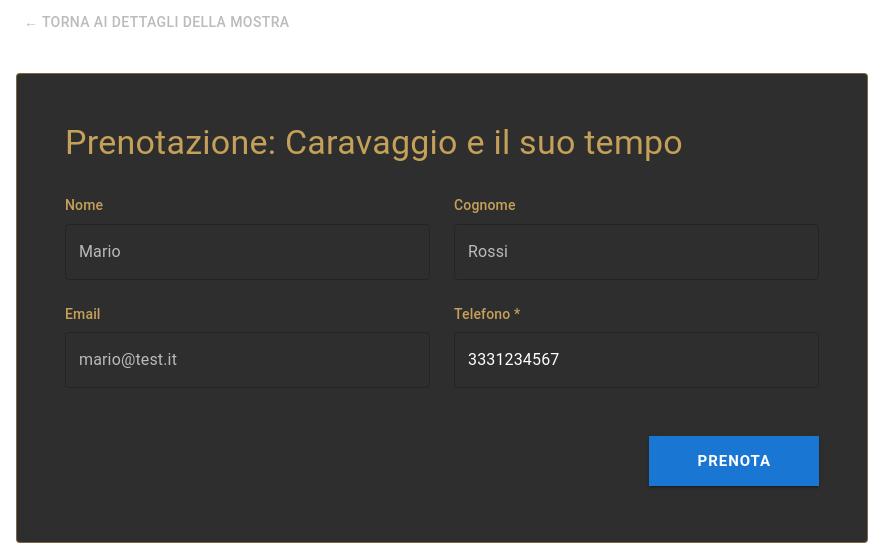
Test: FormPrenotazione › invia la prenotazione e mostra la conferma con l'email del visitatore
Replace the text in the field named "Telefono" with " 0612345678 " at (636, 360), box [454,332,819,388]
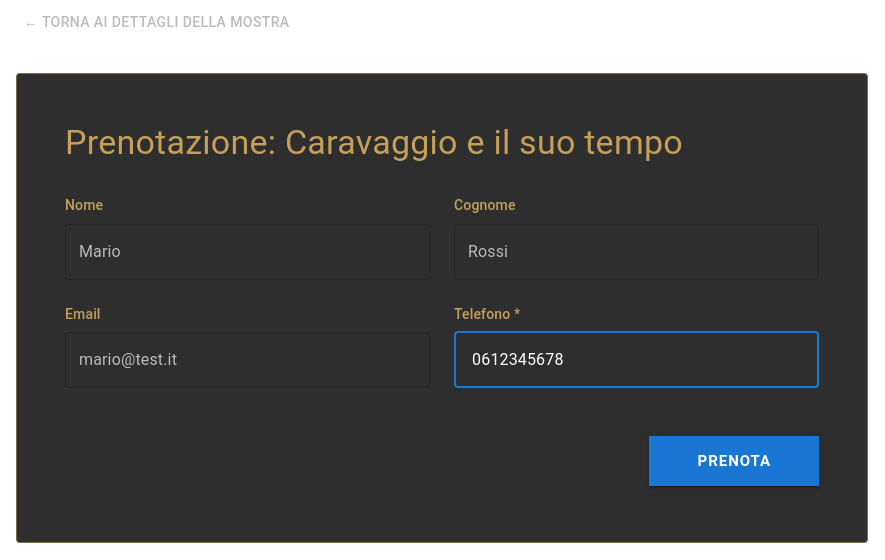
Click the button "PRENOTA" at (734, 461), box [650,436,819,486]
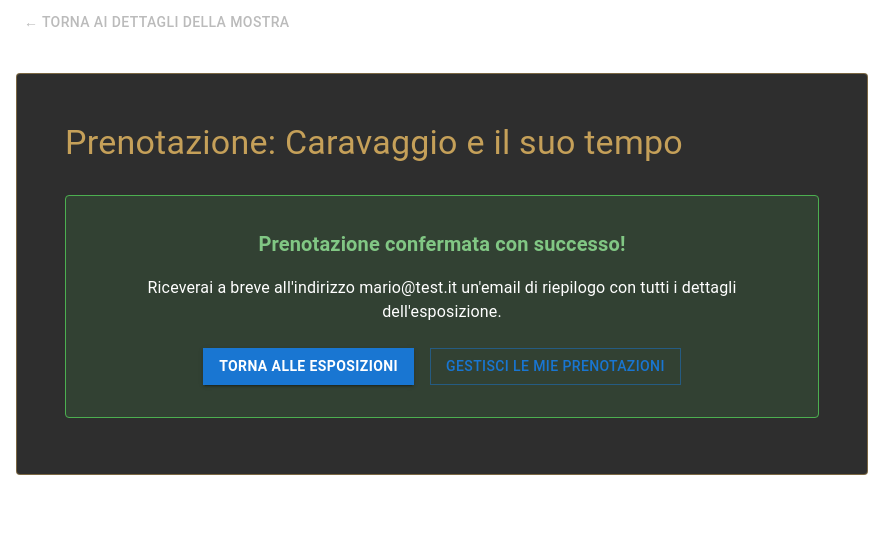
Now the heading "Prenotazione confermata con successo!" is shown, box [258,232,626,256]
Now the text "mario@test.it" is shown, box [148,278,736,322]
